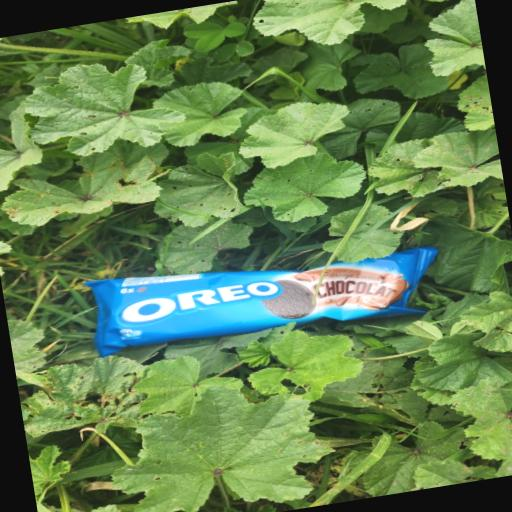oreo: (13, 154, 512, 464)
